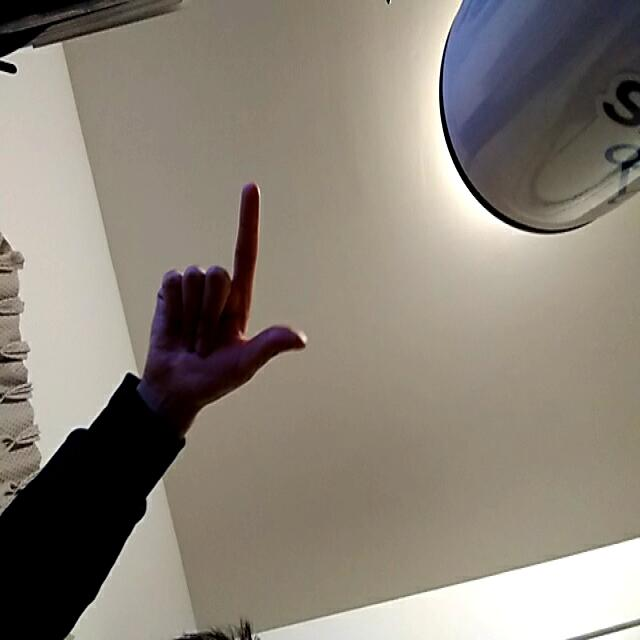L: (107, 164, 346, 415)
